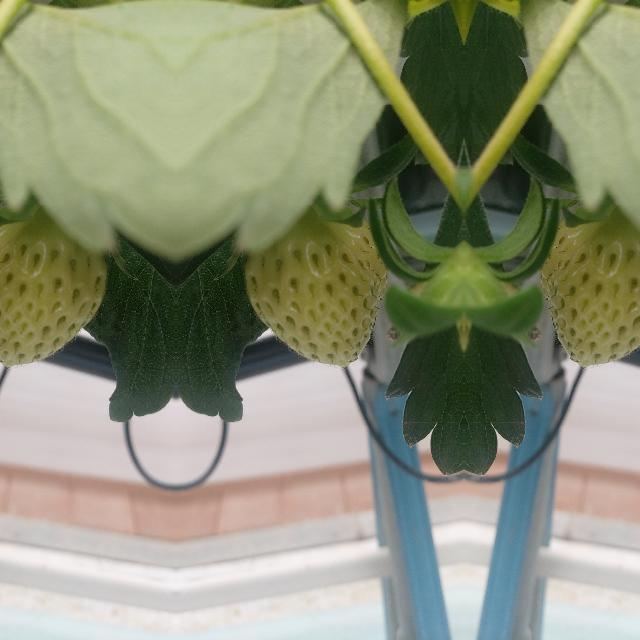Health_25: (244, 207, 388, 366), (0, 206, 106, 365), (538, 206, 640, 365)
